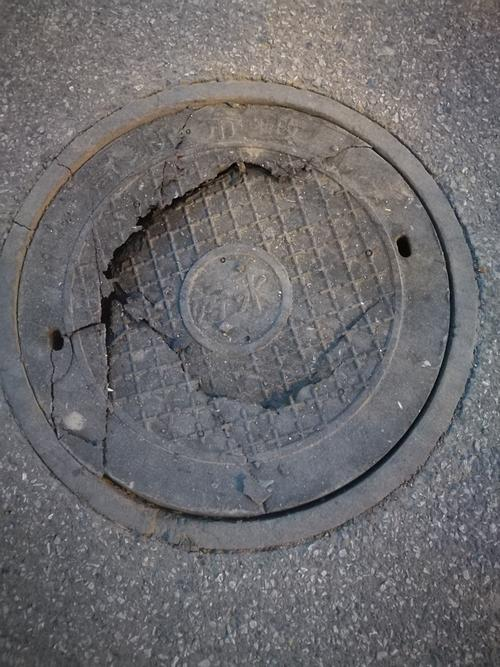broke: (11, 72, 475, 551)
